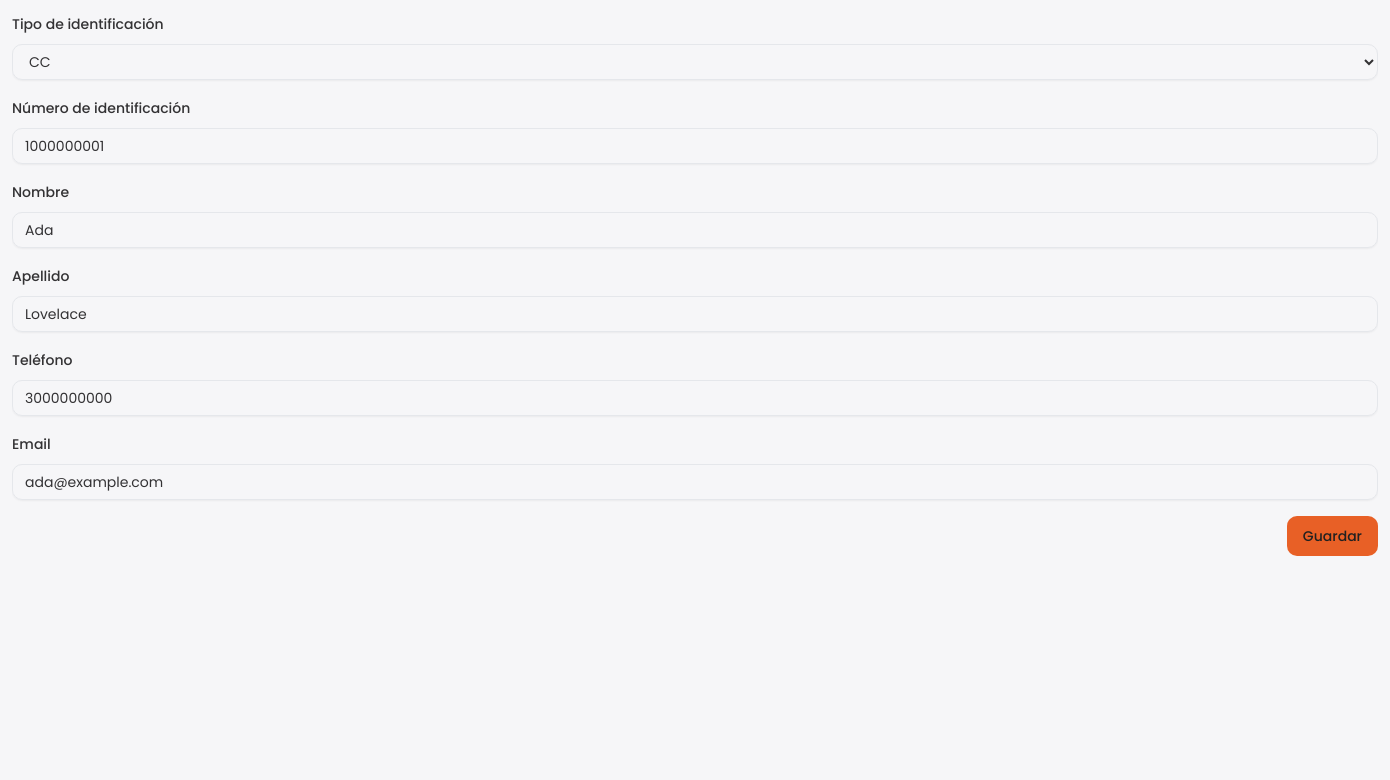
Test: <ClienteDatosTab /> › shows the "duplicado" message when the submit error mentions a duplicate
Click the button with test id "cliente-datos-submit". click: coordinates (1332, 536)
box: 1287,516 -> 1378,556
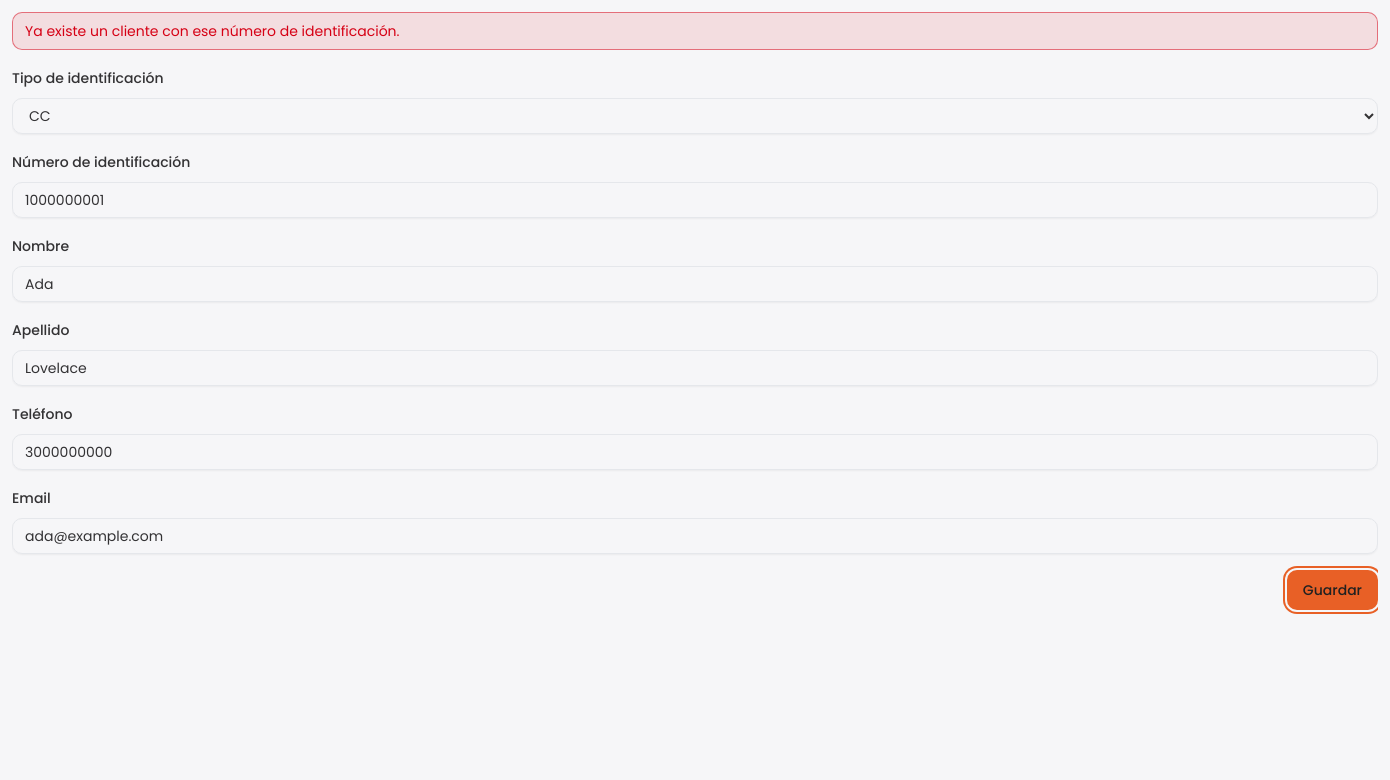
Check: the message with test id "cliente-datos-submit-error" reads "Ya existe un cliente con ese número de identificación.", box 25,21 -> 400,41
